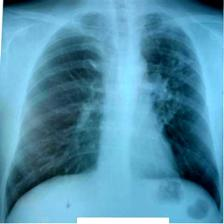tuberculosis: (0, 2, 224, 224)
